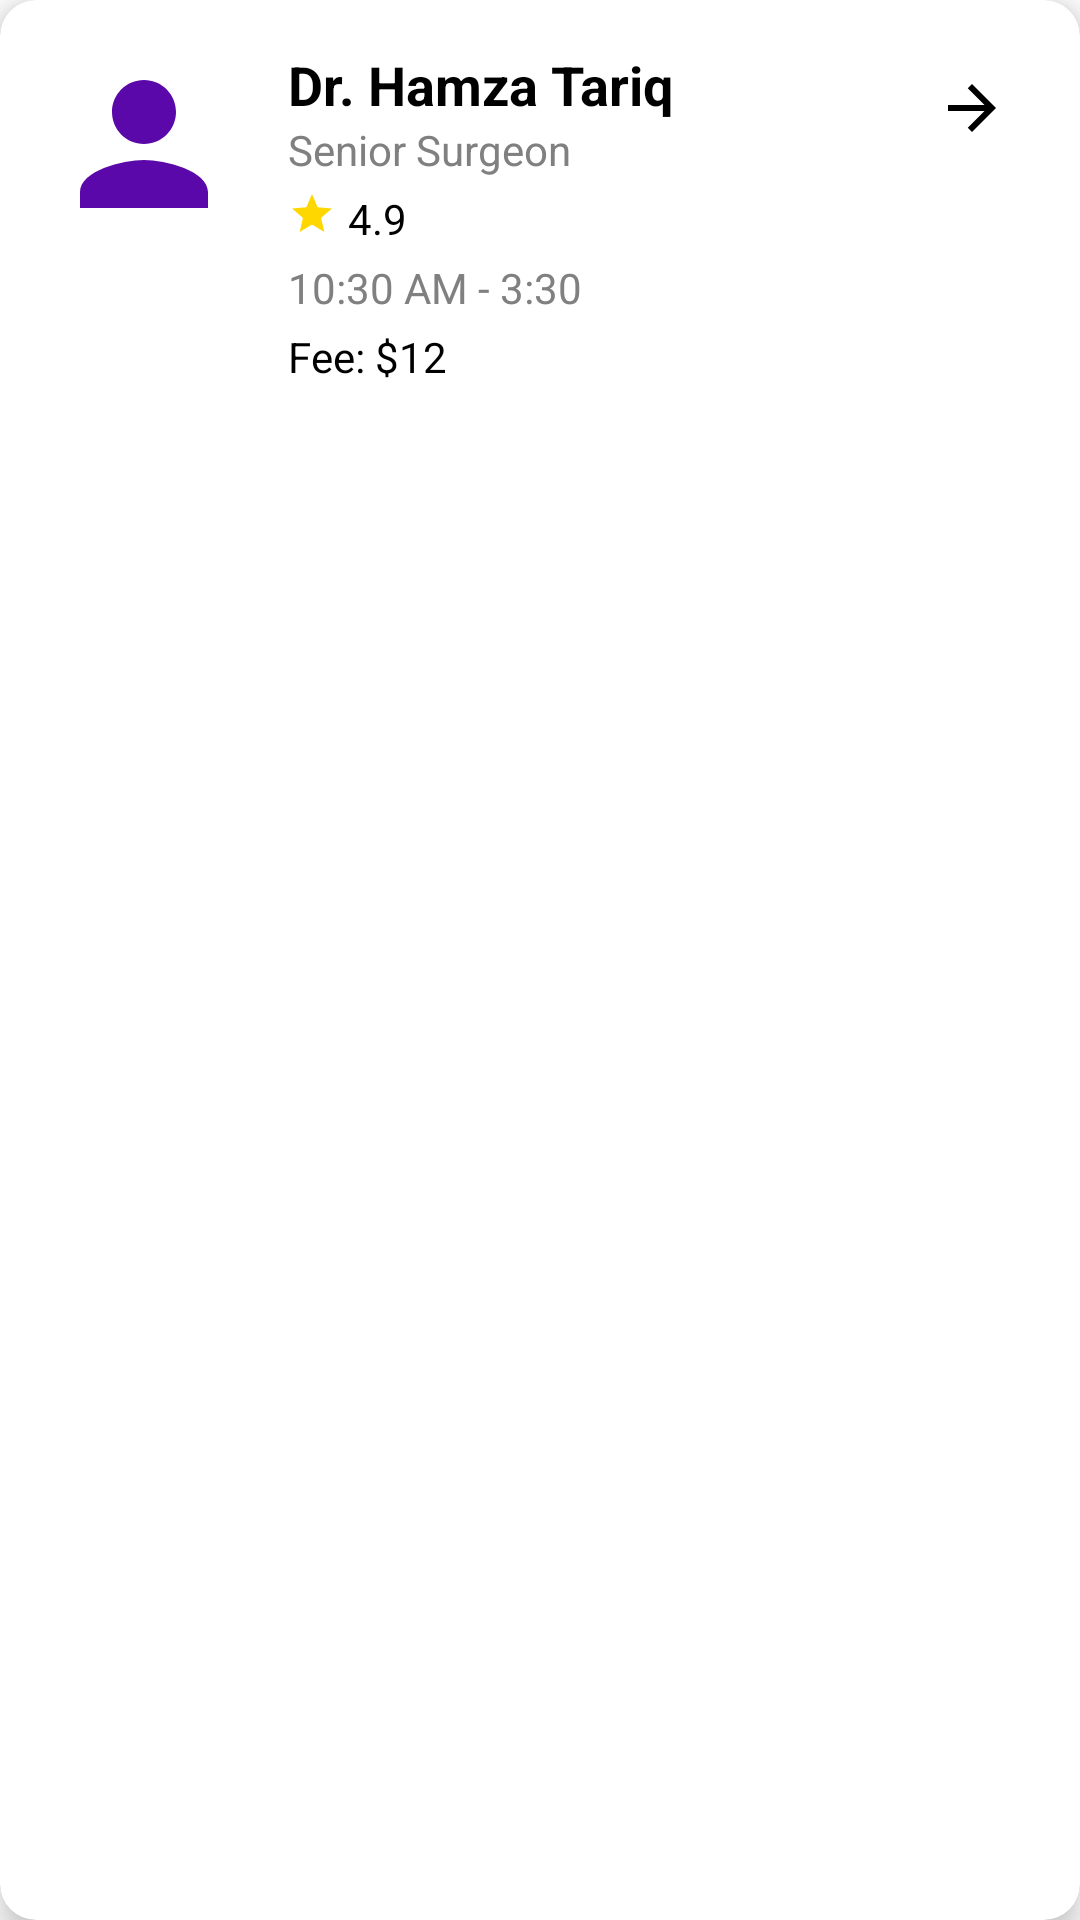

Icon bounding boxes for this 1080×1920 phone screenshot, format (x1, y1, x2, y2):
Next: (948, 84, 996, 132)
star: (292, 194, 332, 232)
